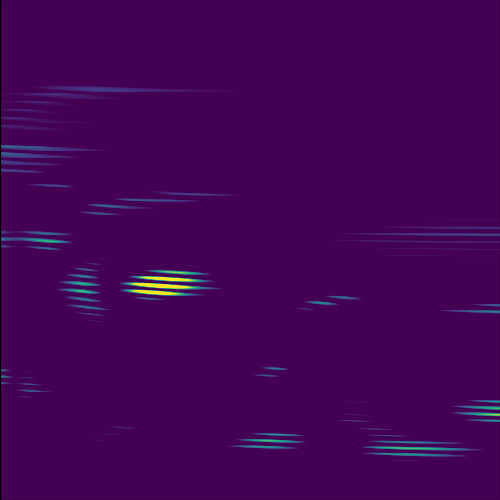semblance: (118, 266, 219, 304)
